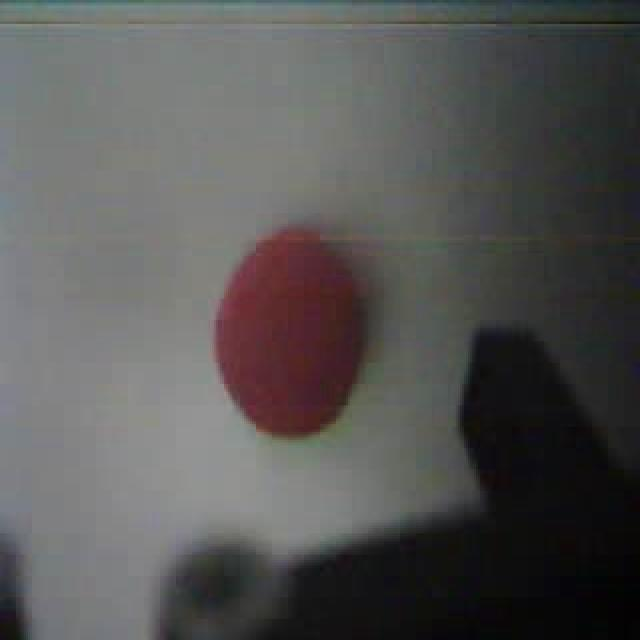red_ball: (210, 221, 370, 443)
